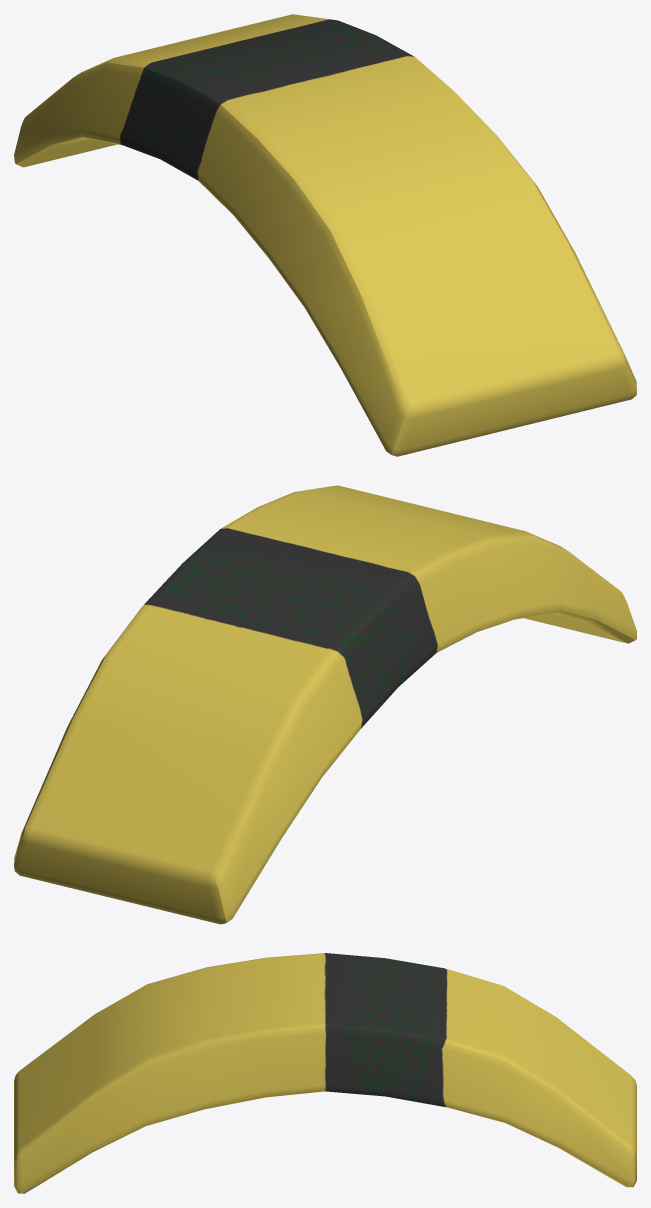
The model's file is neta_egg.fbx.
The picture shows the model from 3 angles, top to bottom: view 1: azimuth 30°, elevation 25°; view 2: azimuth 150°, elevation 25°; view 3: azimuth 270°, elevation 25°; orthographic projection. The views are drawn at different scales.
Visible parts, largest first — view 1: Neta_Egg; view 2: Neta_Egg; view 3: Neta_Egg.
Boxes of the visible parts, left/top/right/bottom form: Neta_Egg: left=14, top=14, right=636, bottom=456; Neta_Egg: left=14, top=485, right=636, bottom=924; Neta_Egg: left=14, top=953, right=636, bottom=1193.
Size of the model in its own units: 0.8996 by 0.688 by 2.42.
Materials: 1 (1 with a texture image).
